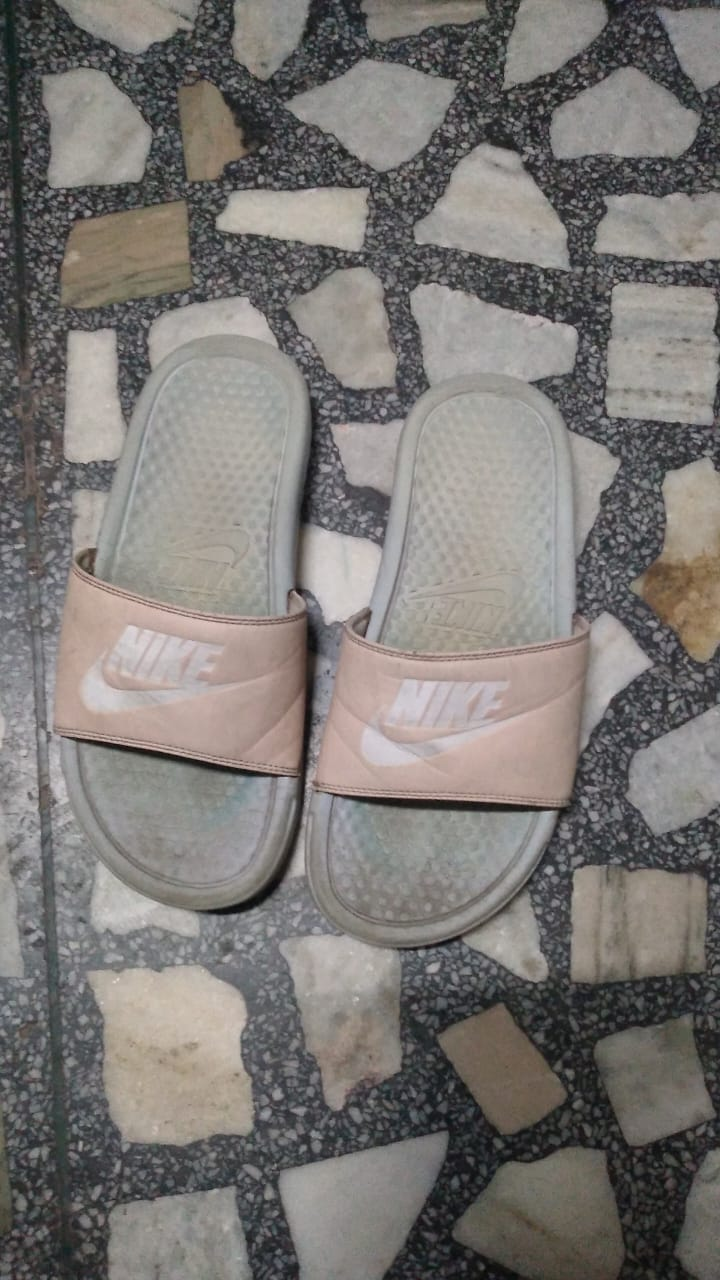Footwear: (49, 312, 606, 951), (308, 353, 594, 972), (49, 331, 310, 925)
